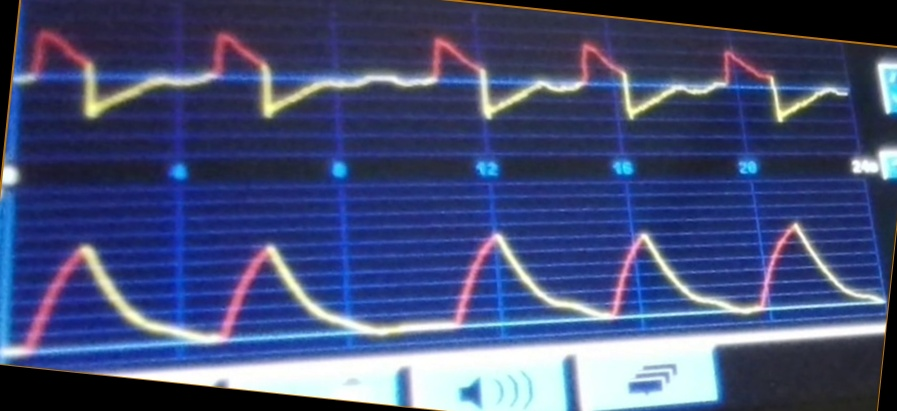Ineffective_effort Flow: (22, 22, 845, 137)
Ineffective_effort Volume: (15, 223, 881, 347)
